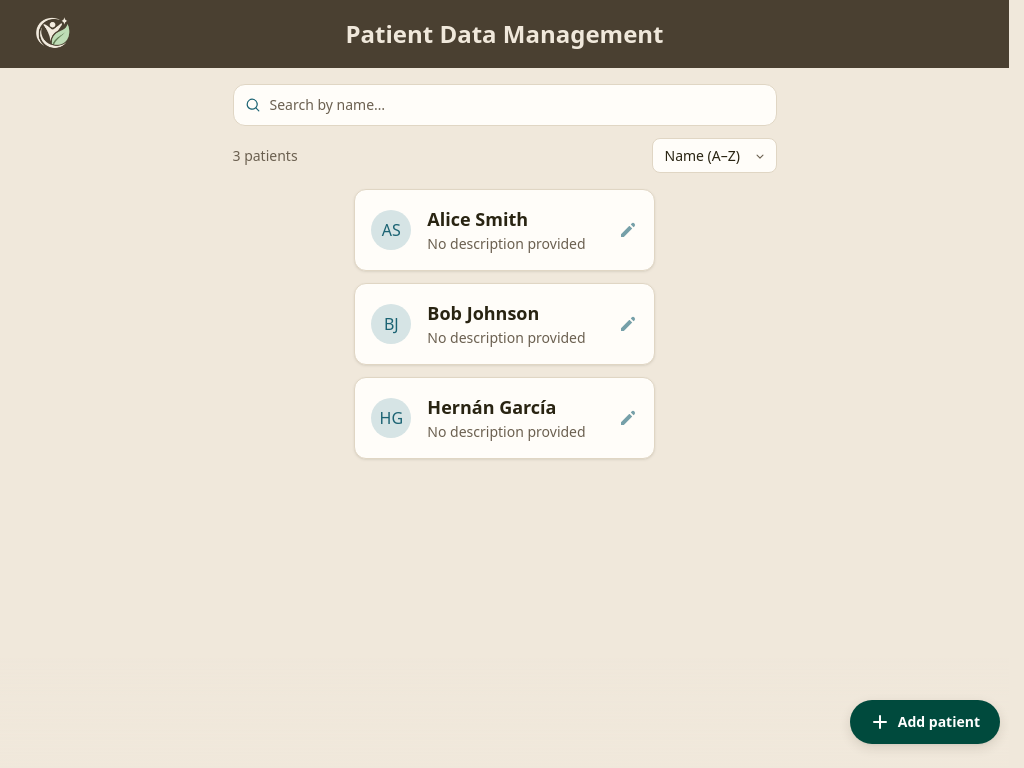
Test: App — search and filtering › shows the search empty state when no patients match
Type "zzznomatch" into the field named "search patients" at [504, 105], box [232,84,776,126]
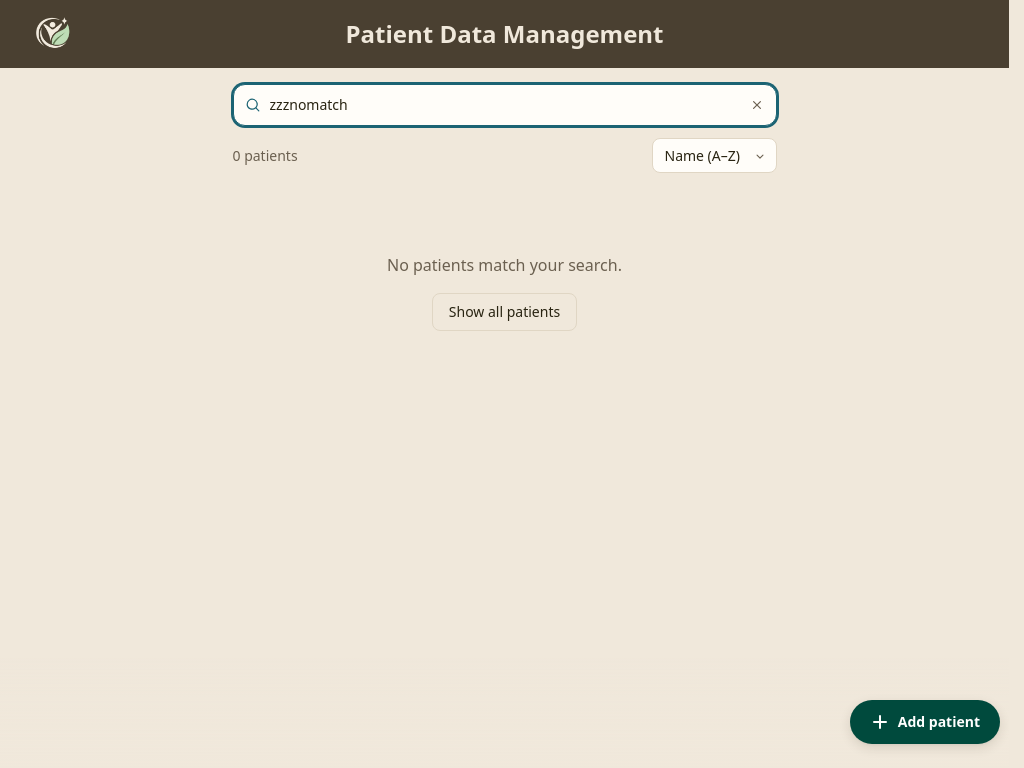
Expected: the text "No patients match your search." is shown, [387,253,622,277]
Expected: the button "Show all patients" is shown, [432,293,577,331]
